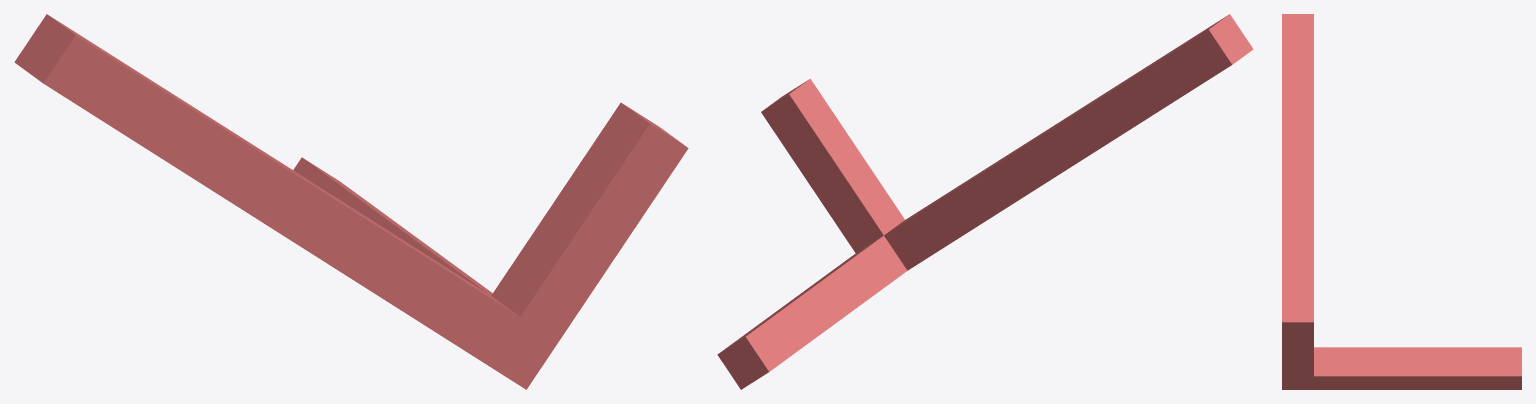
File: marker_placed.fbx
The picture shows the model from 3 angles, left to right: view 1: azimuth 30°, elevation 25°; view 2: azimuth 150°, elevation 25°; view 3: azimuth 270°, elevation 25°; orthographic projection. The views are drawn at different scales.
Parts seen in each view (by area): view 1: TT_MarkerPlaced; view 2: TT_MarkerPlaced; view 3: TT_MarkerPlaced.
Boxes of the visible parts, bbox=[...] form: TT_MarkerPlaced: bbox=[14, 14, 688, 389]; TT_MarkerPlaced: bbox=[717, 14, 1253, 389]; TT_MarkerPlaced: bbox=[1282, 14, 1521, 389].
Size of the model in its own units: 1023 by 600 by 704.
